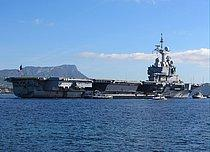MIL_Ship: (6, 31, 195, 100)
